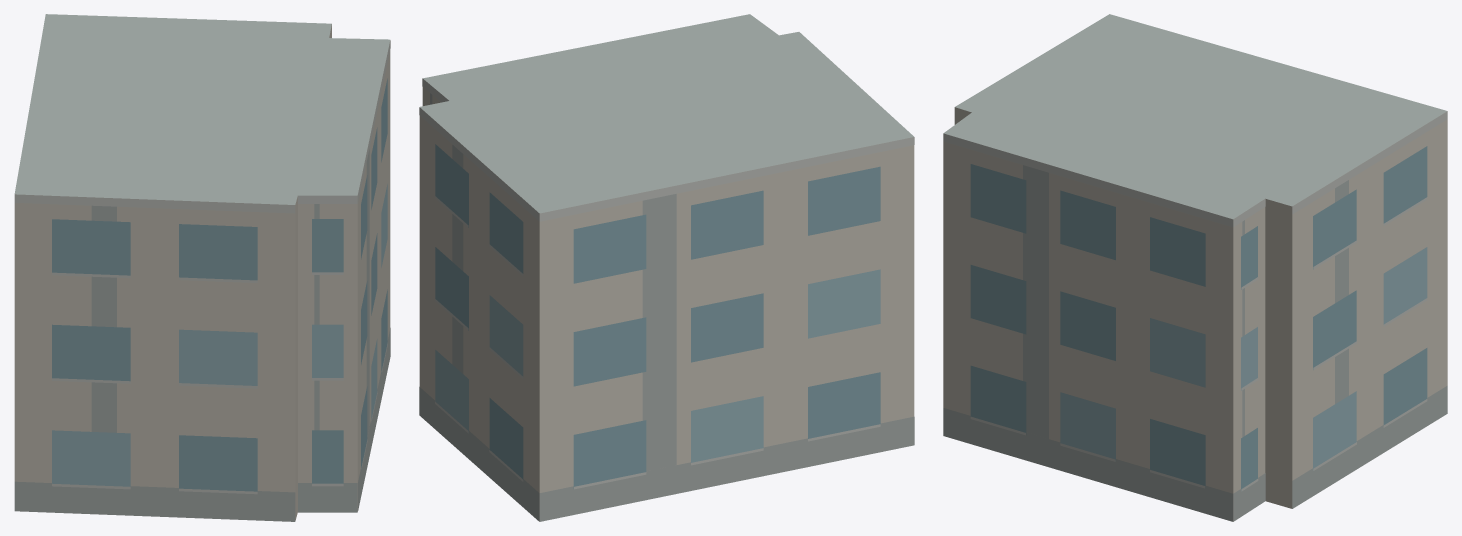
The model's file is survey-upis-32808286.glb.
The picture shows the model from 3 angles, left to right: view 1: azimuth 30°, elevation 25°; view 2: azimuth 150°, elevation 25°; view 3: azimuth 270°, elevation 25°; orthographic projection. The views are drawn at different scales.
Parts seen in each view (by area): view 1: survey-upis-32808286.tmp; view 2: survey-upis-32808286.tmp; view 3: survey-upis-32808286.tmp.
Part boxes in pixels (x1,y1,x2,y2): survey-upis-32808286.tmp: (14, 14, 390, 521); survey-upis-32808286.tmp: (419, 14, 914, 521); survey-upis-32808286.tmp: (943, 14, 1447, 521).
Size of the model in its own units: 13.33 by 9.15 by 13.83.
